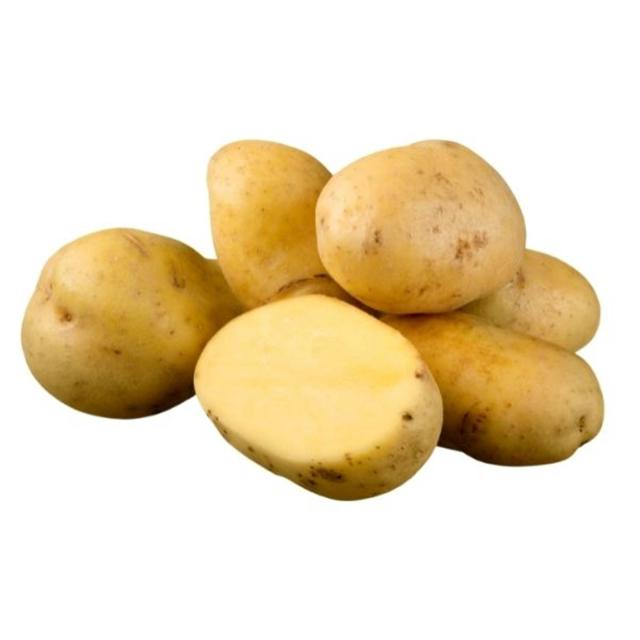Potato: (187, 272, 468, 512), (311, 125, 550, 328), (26, 215, 246, 422), (198, 126, 372, 321)
